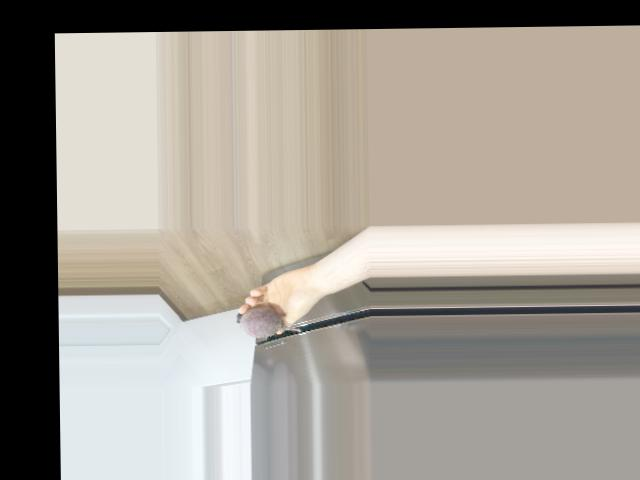beet: (235, 306, 299, 337)
